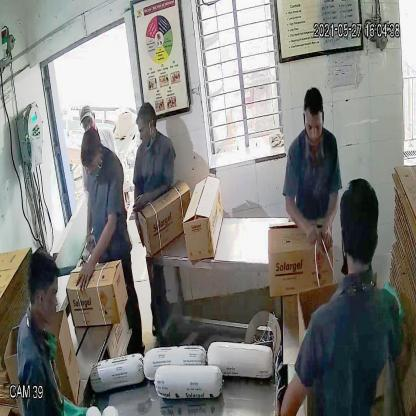no_goggles: (304, 115, 326, 139)
